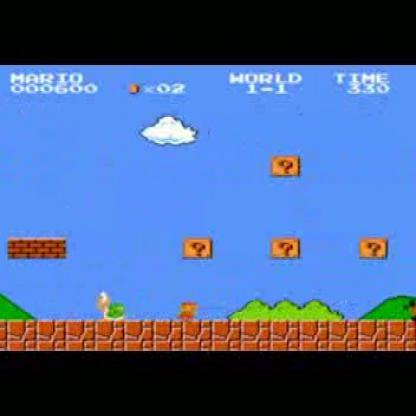Tortuga: (95, 288, 127, 321)
